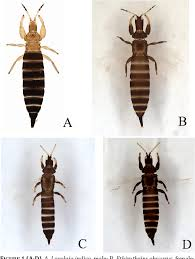Phlaeothripidae: (6, 1, 62, 129), (116, 4, 167, 130), (132, 141, 171, 248), (31, 144, 67, 245)
